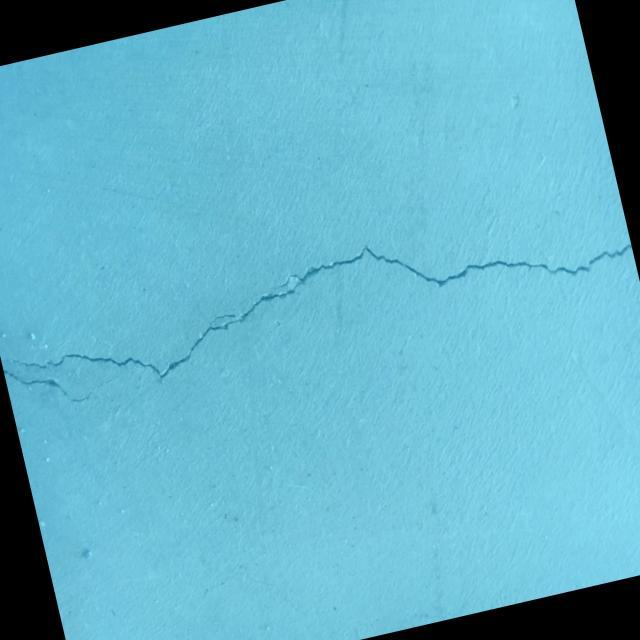crack: (0, 185, 637, 414), (4, 346, 114, 418)
